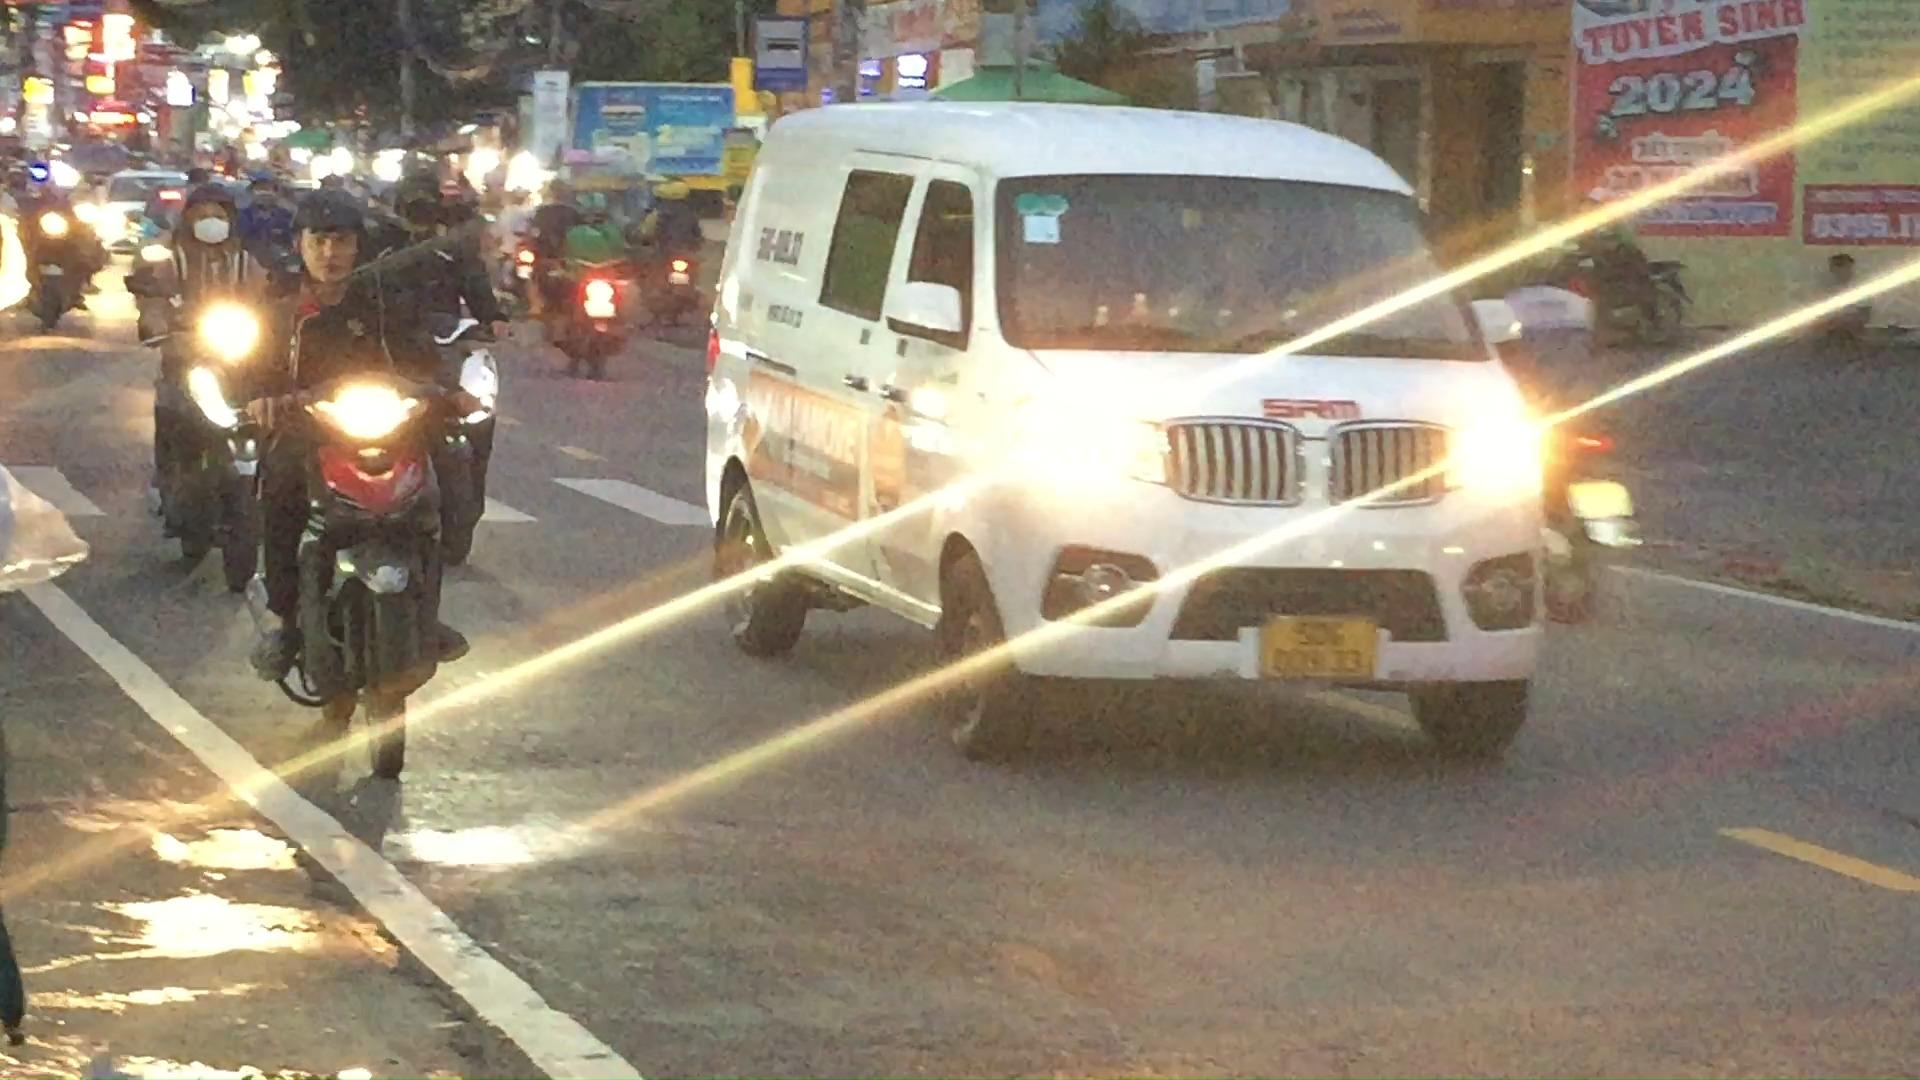bien_so: (1256, 612, 1377, 682)
